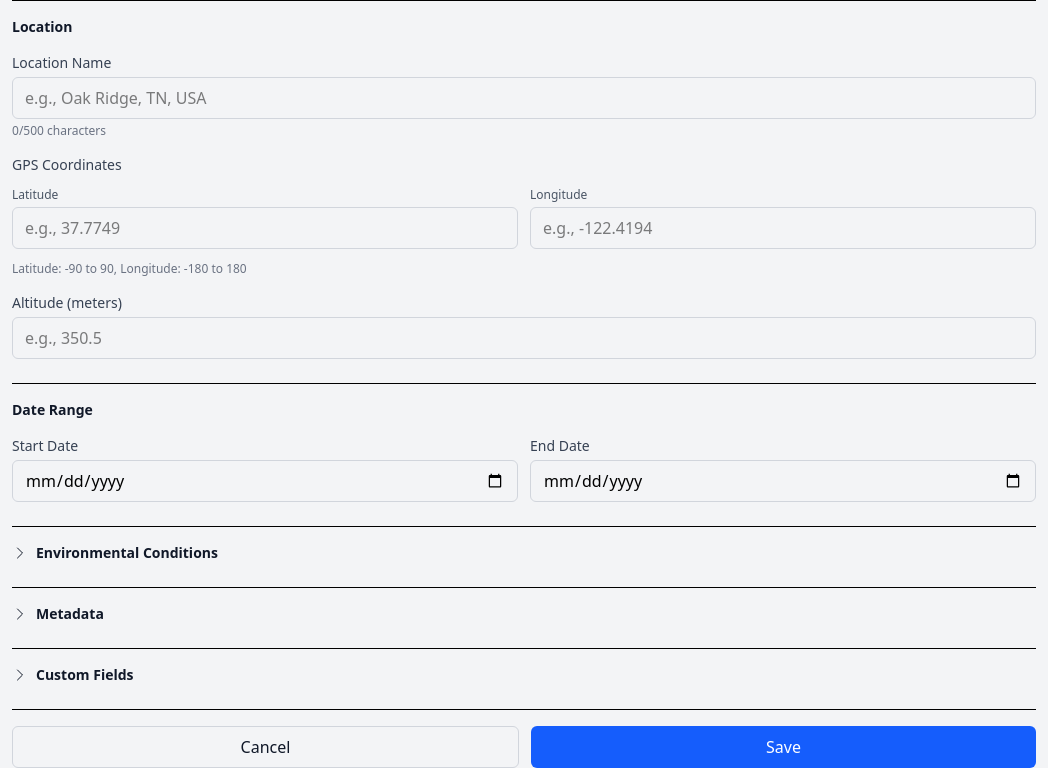
Test: DeploymentEditor › validates deployment_name is required
(page scrolled)
Note: Click Save with empty name — triggers validation, shows error, does NOT call onSave
Step 1. Click the button "Save" → click(784, 747), box [531, 726, 1036, 767]
(page scrolled)
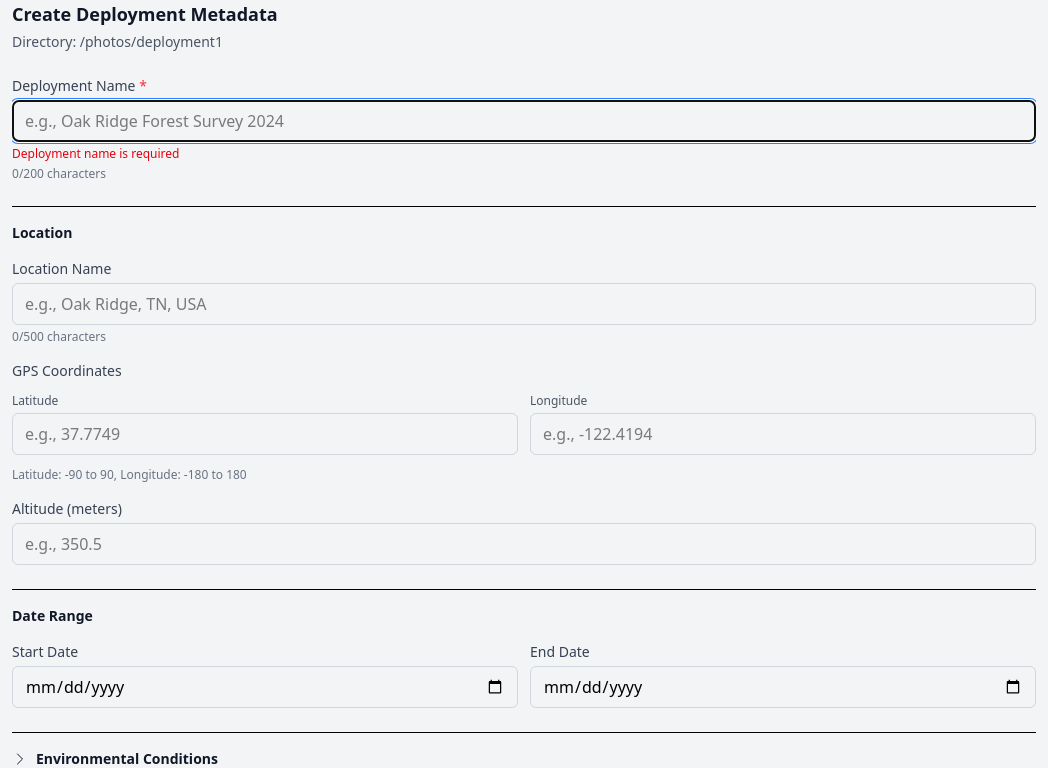
Result: the text "Deployment name is required" is shown at [12, 145, 180, 162]
